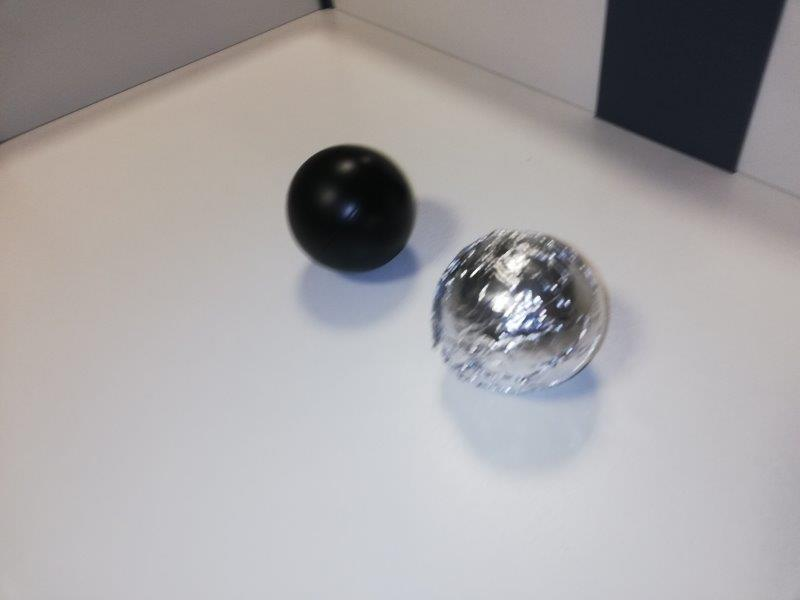bianca: (432, 230, 608, 390)
nera: (287, 144, 414, 270)
